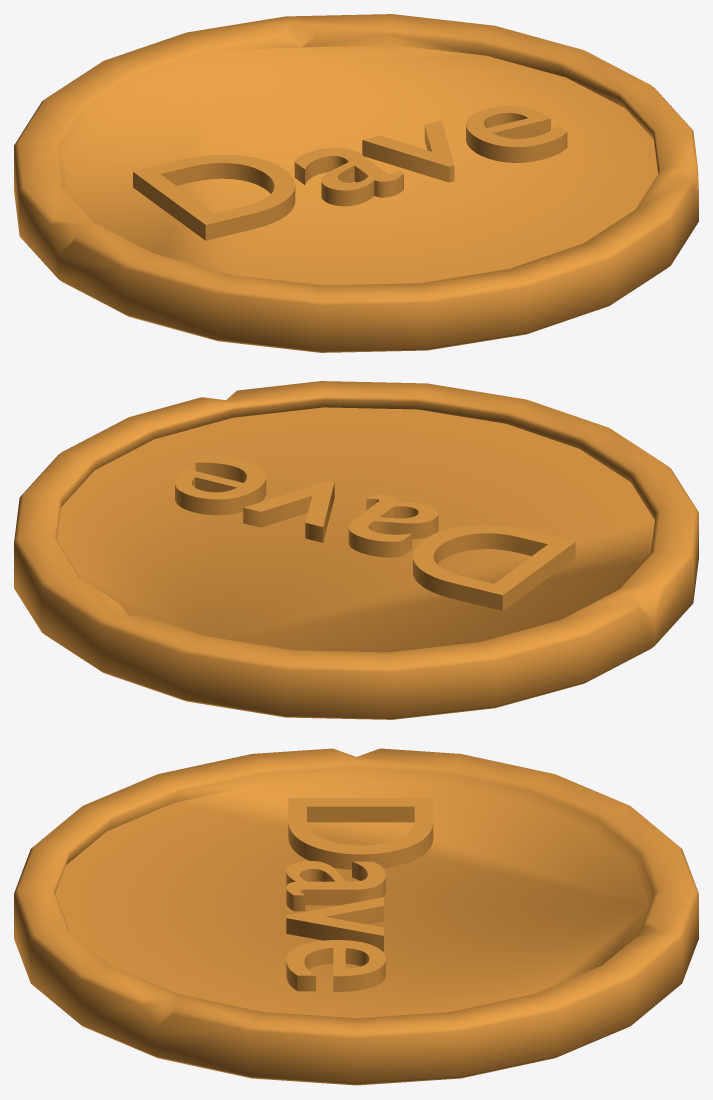
Rendered from Coin.fbx.
3 renders of one model, top to bottom at view 1: azimuth 30°, elevation 25°; view 2: azimuth 150°, elevation 25°; view 3: azimuth 270°, elevation 25°, orthographic.
Parts seen in each view (by area): view 1: Coin; view 2: Coin; view 3: Coin.
Part boxes in pixels (x1,y1,x2,y2): Coin: (14,14,698,352); Coin: (14,381,698,719); Coin: (14,748,698,1085).
Size of the model in its own units: 200 by 17.66 by 200.
